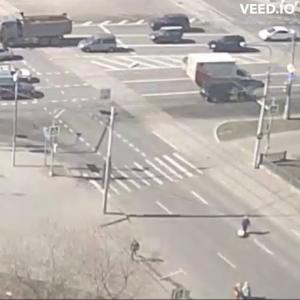car: (1, 8, 72, 48), (184, 53, 261, 84), (81, 34, 125, 55), (210, 35, 251, 54), (203, 86, 247, 103), (151, 28, 187, 48), (146, 14, 189, 28), (6, 67, 41, 84), (260, 27, 297, 43)
